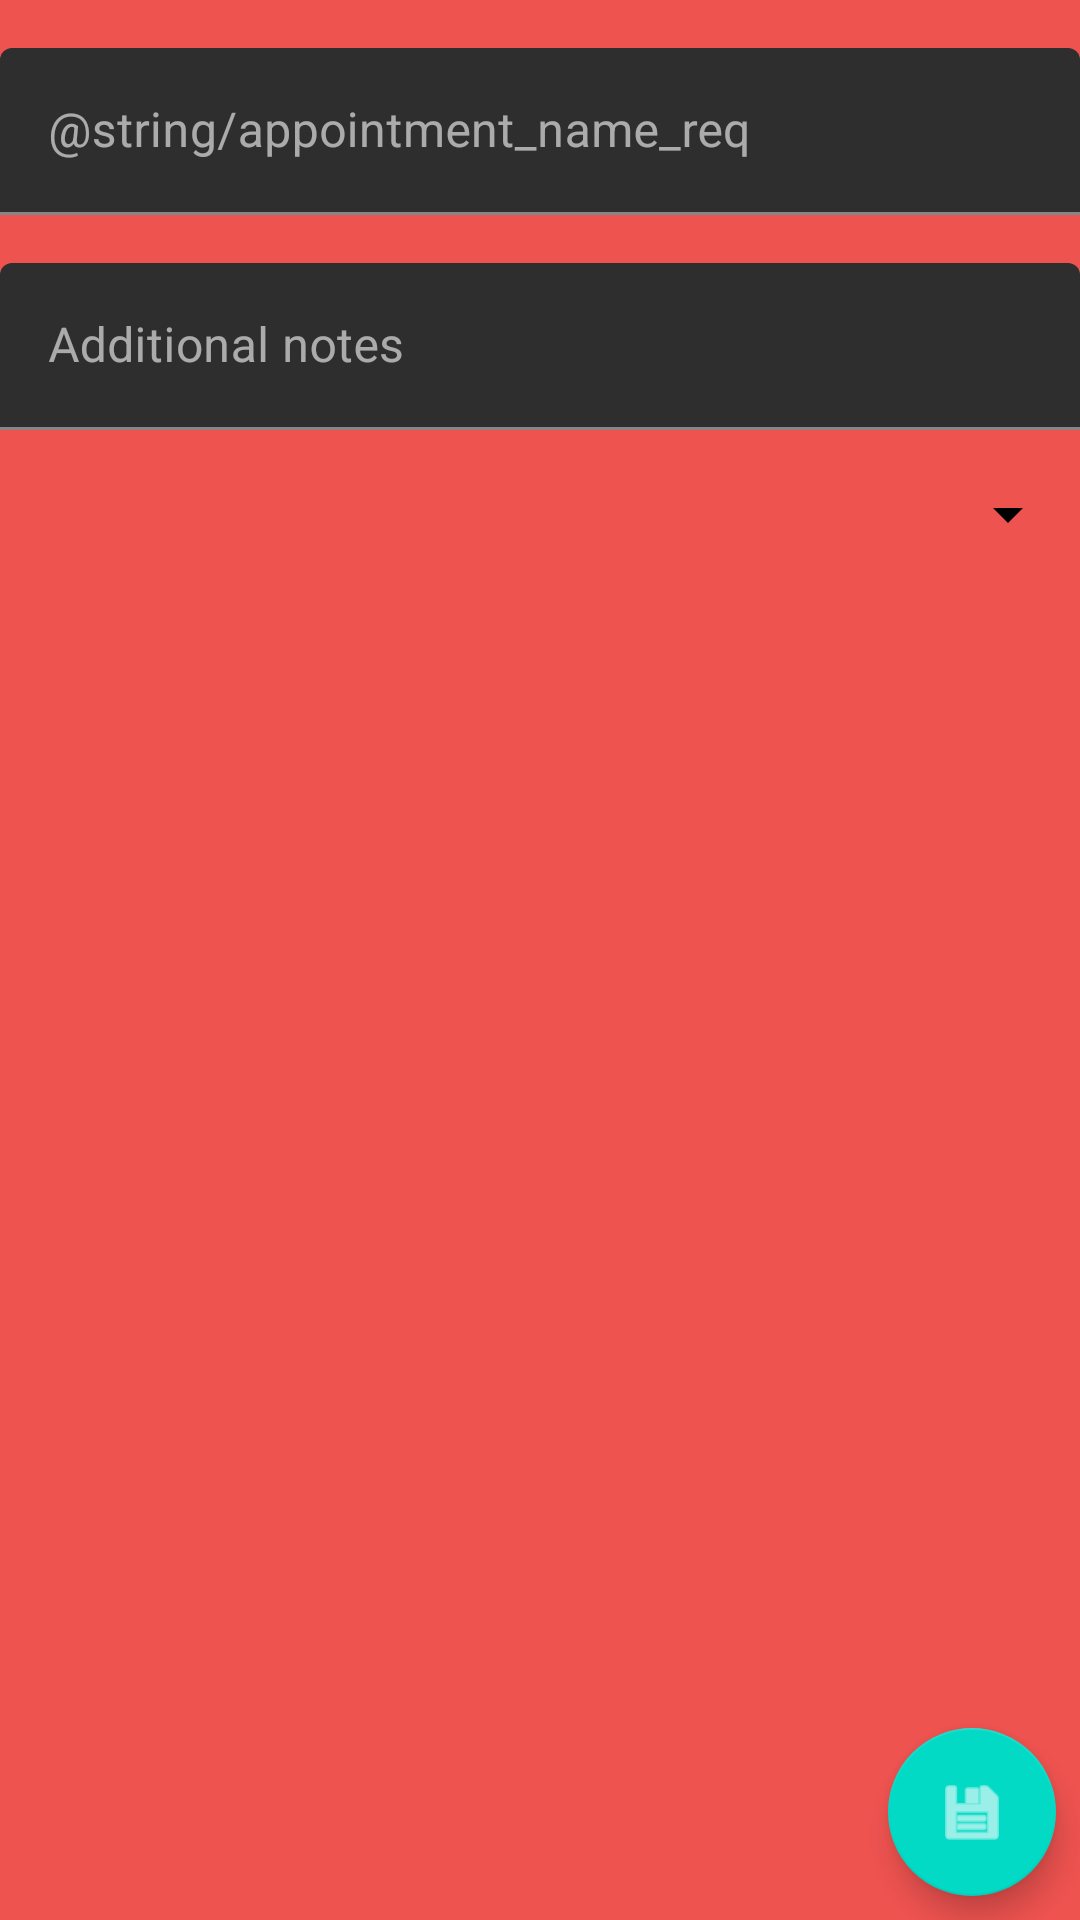

Point at icon controls on the screen. Image size 1080px×1920px, points as (x=x, y=y).
Save: (x=972, y=1812)
